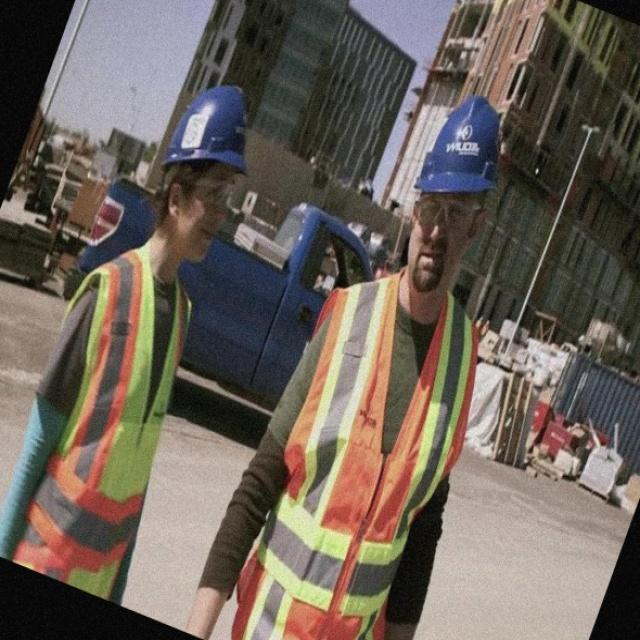helmet: (412, 87, 516, 195), (160, 75, 256, 172)
safety_vest: (212, 267, 492, 640), (0, 237, 209, 596)
